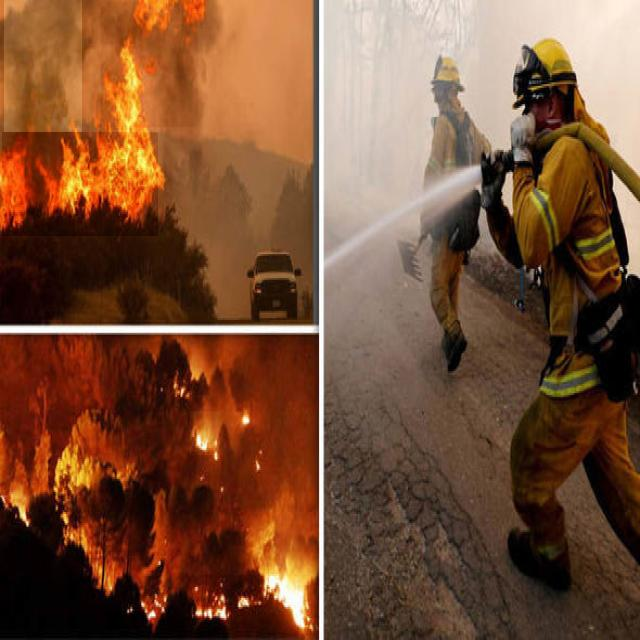Fire: (2, 132, 158, 236), (101, 2, 198, 127), (188, 575, 312, 636), (190, 411, 220, 455)
Smoke: (4, 0, 82, 132)
